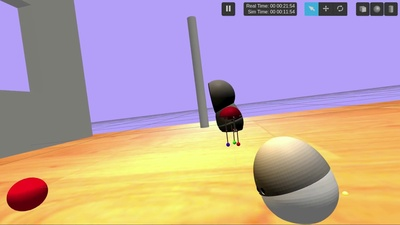mira_robot: (254, 137, 339, 224)
